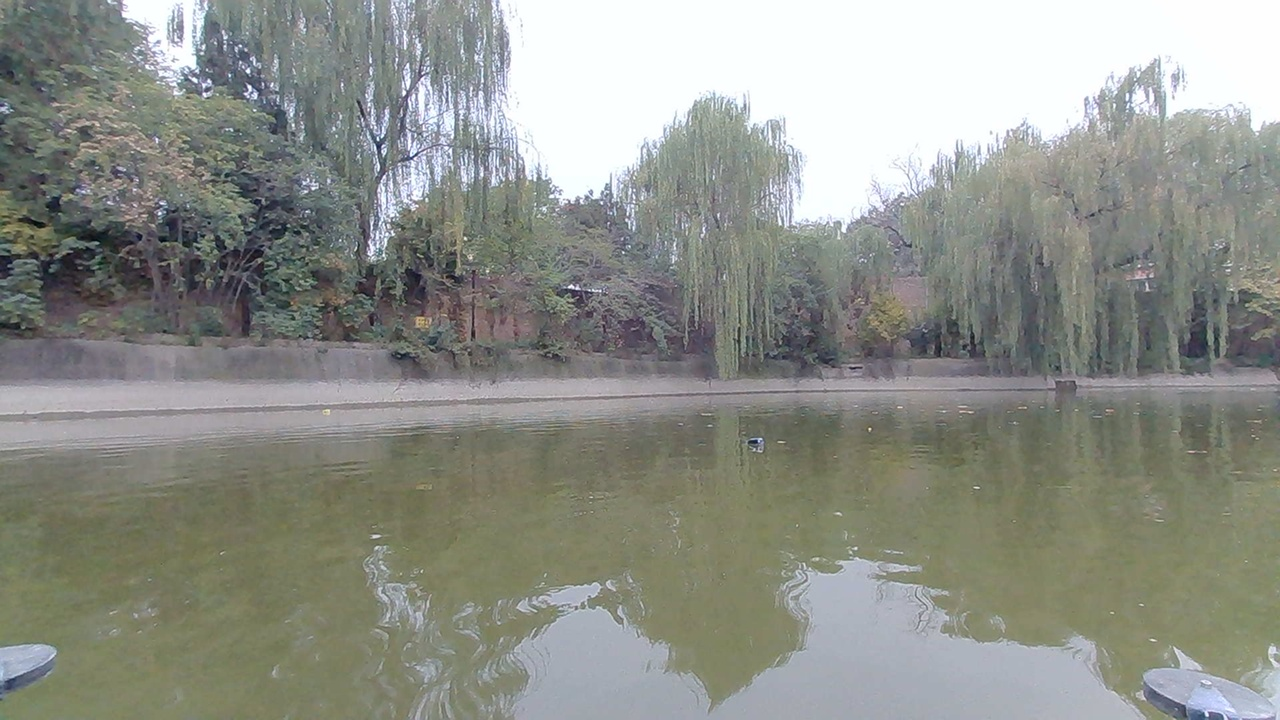bottle: (743, 428, 771, 454)
